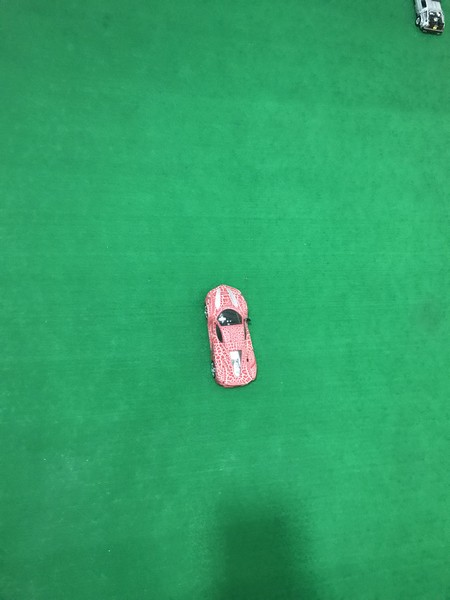RC: (201, 282, 262, 390)
